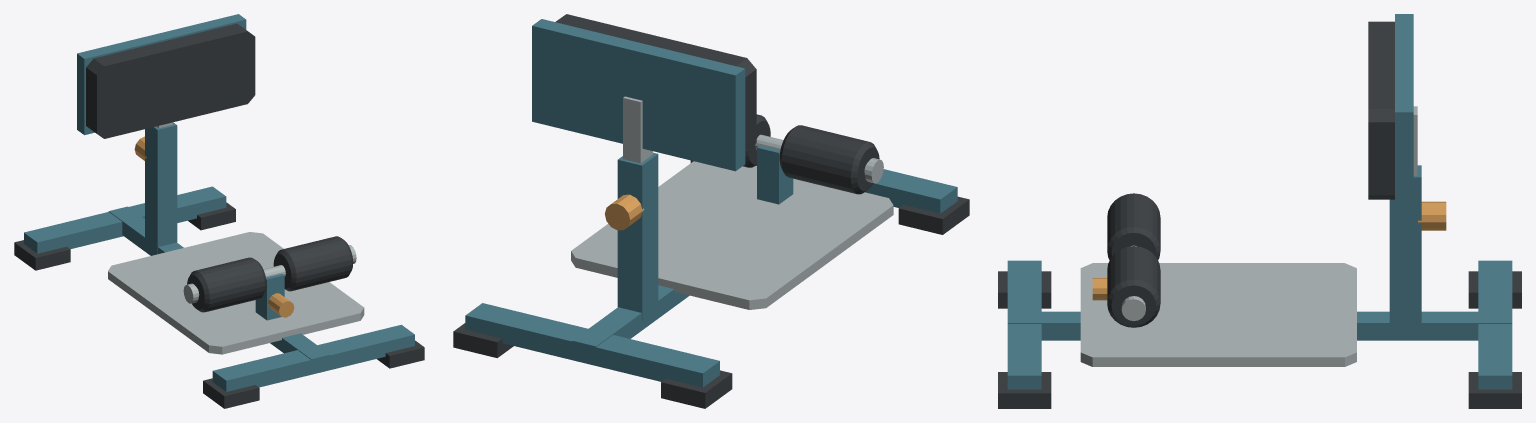
3 renders of one model, left to right at view 1: azimuth 30°, elevation 25°; view 2: azimuth 150°, elevation 25°; view 3: azimuth 270°, elevation 25°, orthographic. The views are drawn at different scales.
Parts seen in each view (by area): view 1: WholeSingleUprightCalfCushion, WholeBroadLowFootplate, WholeLowHShapedGroundFrame, WholeRearCalfPadPostSleeve, WholeLeftFootRoller, WholeRightFootRoller, WholeFullCalfPadBackplate, WholeFrontLeftFiniteGroundPad, WholeRearLeftFiniteGroundPad, WholeFrontFootRollerPost, WholeFrontRightFiniteGroundPad, WholeRearRightFiniteGroundPad (+1 smaller); view 2: WholeBroadLowFootplate, WholeFullCalfPadBackplate, WholeLowHShapedGroundFrame, WholeRearCalfPadPostSleeve, WholeLeftFootRoller, WholeSingleUprightCalfCushion, WholeFrontFootRollerPost, WholeFrontLeftFiniteGroundPad, WholeRearLeftFiniteGroundPad, WholeRearCalfPadInnerStem, WholeRearRightFiniteGroundPad, WholeRearFixedSettingKnob (+1 smaller); view 3: WholeBroadLowFootplate, WholeLowHShapedGroundFrame, WholeSingleUprightCalfCushion, WholeRearCalfPadPostSleeve, WholeFullCalfPadBackplate, WholeRightFootRoller, WholeLeftFootRoller, WholeFrontRightFiniteGroundPad, WholeRearRightFiniteGroundPad, WholeFrontLeftFiniteGroundPad, WholeRearLeftFiniteGroundPad, WholeRearFixedSettingKnob (+1 smaller).
Part boxes in pixels (x1,y1,x2,y2): WholeSingleUprightCalfCushion: (86, 23, 255, 138); WholeBroadLowFootplate: (108, 232, 364, 354); WholeLowHShapedGroundFrame: (24, 186, 414, 391); WholeRearCalfPadPostSleeve: (145, 122, 177, 253); WholeLeftFootRoller: (187, 257, 266, 312); WholeRightFootRoller: (273, 236, 353, 291); WholeFullCalfPadBackplate: (77, 14, 246, 135); WholeFrontLeftFiniteGroundPad: (203, 378, 259, 408); WholeRearLeftFiniteGroundPad: (14, 240, 70, 270); WholeFrontFootRollerPost: (255, 273, 284, 320); WholeFrontRightFiniteGroundPad: (377, 340, 424, 368); WholeRearRightFiniteGroundPad: (188, 202, 235, 230); WholeBroadLowFootplate: (571, 161, 893, 309); WholeFullCalfPadBackplate: (532, 19, 745, 171); WholeLowHShapedGroundFrame: (465, 165, 957, 387); WholeRearCalfPadPostSleeve: (617, 152, 658, 320); WholeLeftFootRoller: (779, 125, 879, 194); WholeSingleUprightCalfCushion: (555, 14, 756, 150); WholeFrontFootRollerPost: (757, 145, 793, 204); WholeFrontLeftFiniteGroundPad: (898, 196, 969, 234); WholeRearLeftFiniteGroundPad: (661, 370, 732, 408); WholeRearCalfPadInnerStem: (623, 96, 652, 163); WholeRearRightFiniteGroundPad: (453, 323, 513, 358); WholeRearFixedSettingKnob: (605, 194, 644, 230); WholeBroadLowFootplate: (1080, 263, 1356, 366); WholeLowHShapedGroundFrame: (1007, 260, 1512, 389); WholeSingleUprightCalfCushion: (1368, 21, 1394, 199); WholeRearCalfPadPostSleeve: (1389, 165, 1421, 331); WholeFullCalfPadBackplate: (1395, 14, 1413, 207); WholeRightFootRoller: (1107, 246, 1160, 327); WholeLeftFootRoller: (1107, 193, 1160, 260); WholeFrontRightFiniteGroundPad: (998, 372, 1051, 408); WholeRearRightFiniteGroundPad: (1468, 372, 1521, 408); WholeFrontLeftFiniteGroundPad: (998, 271, 1051, 308); WholeRearLeftFiniteGroundPad: (1468, 271, 1521, 308); WholeRearFixedSettingKnob: (1418, 201, 1446, 230).
Size of the model in its own units: 0.594 by 0.648 by 1.08.
